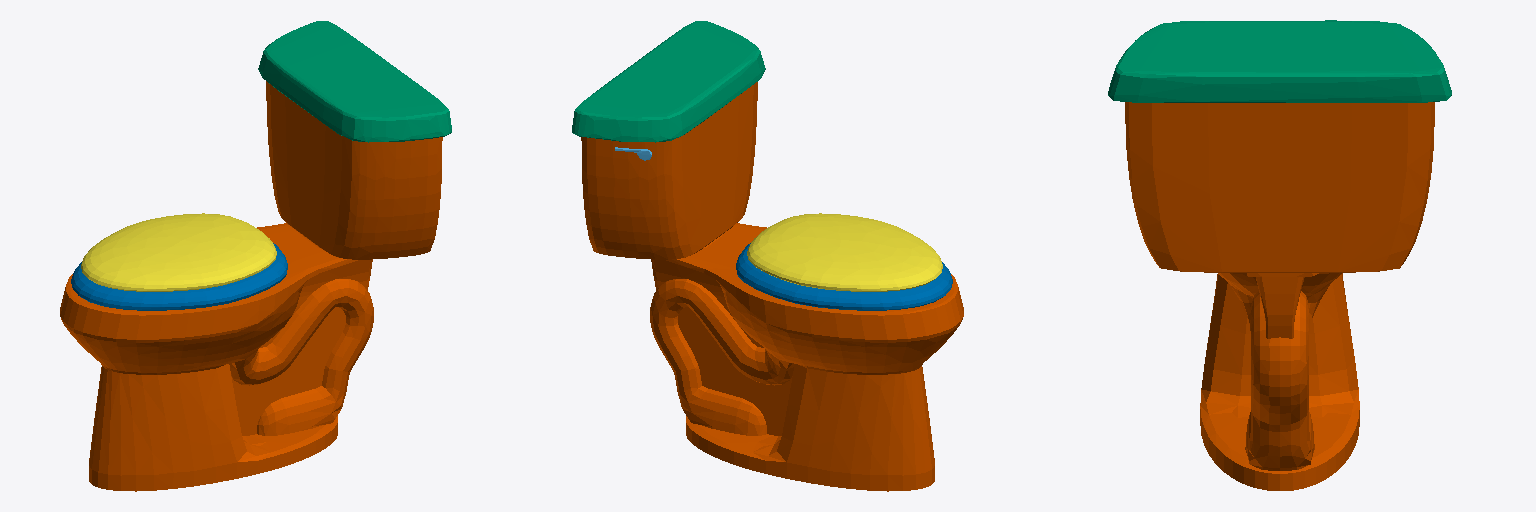
robot.urdf — partnet_690aaf094a1aab6f62199a9cae1daff4:
<robot name="partnet_690aaf094a1aab6f62199a9cae1daff4">
	<link name="base" />
	<link name="link_0">
		<collision>
			<origin xyz="0.386519538470232 -0.5714278321933174 0.2971314556934803" />
			<geometry>
				<mesh filename="new_objs/102648_link_0_0.obj" />
			</geometry>
		</collision>
	<collision>
			<origin xyz="0.386519538470232 -0.5714278321933174 0.2971314556934803" />
			<geometry>
				<mesh filename="new_objs/102648_link_0_1.obj" />
			</geometry>
		</collision>
	<visual name="button-part[&quot;id]">
			<origin xyz="0.386519538470232 -0.5714278321933174 0.2971314556934803" />
			<geometry>
				<mesh filename="textured_objs/original-5.obj" />
			</geometry>
		</visual>
		</link>
	<joint name="joint_0" type="revolute">
		<origin xyz="-0.386519538470232 0.5714278321933174 -0.2971314556934803" />
		<axis xyz="-0.9156270153367615 0.009932349765427154 0.40190610497183427" />
		<child link="link_0" />
		<parent link="link_4" />
		<limit lower="-0.0" upper="0.5235987755982988" />
	</joint>
	<link name="link_1">
		<collision>
			<origin xyz="0 0 0" />
			<geometry>
				<mesh filename="new_objs/102648_link_1_0.obj" />
			</geometry>
		</collision>
	<visual name="lid-part[&quot;id]">
			<origin xyz="0 0 0" />
			<geometry>
				<mesh filename="textured_objs/original-1.obj" />
			</geometry>
		</visual>
		</link>
	<joint name="joint_1" type="prismatic">
		<origin xyz="0 0 0" />
		<axis xyz="0 1 0" />
		<child link="link_1" />
		<parent link="link_4" />
		<limit lower="0" upper="0.03" />
	</joint>
	<link name="link_2">
		<collision>
			<origin xyz="0 -0.0866546278431851 0.0689510427298956" />
			<geometry>
				<mesh filename="new_objs/102648_link_2_0.obj" />
			</geometry>
		</collision>
	<visual name="lid-part[&quot;id]">
			<origin xyz="0 -0.0866546278431851 0.0689510427298956" />
			<geometry>
				<mesh filename="textured_objs/original-6.obj" />
			</geometry>
		</visual>
		</link>
	<joint name="joint_2" type="revolute">
		<origin xyz="0 0.0866546278431851 -0.0689510427298956" />
		<axis xyz="-1 0 0" />
		<child link="link_2" />
		<parent link="link_4" />
		<limit lower="-0.0" upper="1.6057029118347832" />
	</joint>
	<link name="link_3">
		<collision>
			<origin xyz="0 -0.0866546278431851 0.0689510427298956" />
			<geometry>
				<mesh filename="new_objs/102648_link_3_0.obj" />
			</geometry>
		</collision>
	<visual name="seat-part[&quot;id]">
			<origin xyz="0 -0.0866546278431851 0.0689510427298956" />
			<geometry>
				<mesh filename="textured_objs/original-7.obj" />
			</geometry>
		</visual>
		</link>
	<joint name="joint_3" type="revolute">
		<origin xyz="0 0.0866546278431851 -0.0689510427298956" />
		<axis xyz="-1 0 0" />
		<child link="link_3" />
		<parent link="link_4" />
		<limit lower="-0.0" upper="1.6057029118347832" />
	</joint>
	<link name="link_4">
		<collision>
			<origin xyz="0 0 0" />
			<geometry>
				<mesh filename="new_objs/102648_link_4_18.obj" />
			</geometry>
		</collision>
		<collision>
			<origin xyz="0 0 0" />
			<geometry>
				<mesh filename="new_objs/102648_link_4_19.obj" />
			</geometry>
		</collision>
		<collision>
			<origin xyz="0 0 0" />
			<geometry>
				<mesh filename="new_objs/102648_link_4_4.obj" />
			</geometry>
		</collision>
		<collision>
			<origin xyz="0 0 0" />
			<geometry>
				<mesh filename="new_objs/102648_link_4_10.obj" />
			</geometry>
		</collision>
		<collision>
			<origin xyz="0 0 0" />
			<geometry>
				<mesh filename="new_objs/102648_link_4_9.obj" />
			</geometry>
		</collision>
		<collision>
			<origin xyz="0 0 0" />
			<geometry>
				<mesh filename="new_objs/102648_link_4_17.obj" />
			</geometry>
		</collision>
		<collision>
			<origin xyz="0 0 0" />
			<geometry>
				<mesh filename="new_objs/102648_link_4_5.obj" />
			</geometry>
		</collision>
		<collision>
			<origin xyz="0 0 0" />
			<geometry>
				<mesh filename="new_objs/102648_link_4_12.obj" />
			</geometry>
		</collision>
		<collision>
			<origin xyz="0 0 0" />
			<geometry>
				<mesh filename="new_objs/102648_link_4_2.obj" />
			</geometry>
		</collision>
		<collision>
			<origin xyz="0 0 0" />
			<geometry>
				<mesh filename="new_objs/102648_link_4_14.obj" />
			</geometry>
		</collision>
		<collision>
			<origin xyz="0 0 0" />
			<geometry>
				<mesh filename="new_objs/102648_link_4_0.obj" />
			</geometry>
		</collision>
		<collision>
			<origin xyz="0 0 0" />
			<geometry>
				<mesh filename="new_objs/102648_link_4_15.obj" />
			</geometry>
		</collision>
		<collision>
			<origin xyz="0 0 0" />
			<geometry>
				<mesh filename="new_objs/102648_link_4_6.obj" />
			</geometry>
		</collision>
		<collision>
			<origin xyz="0 0 0" />
			<geometry>
				<mesh filename="new_objs/102648_link_4_13.obj" />
			</geometry>
		</collision>
		<collision>
			<origin xyz="0 0 0" />
			<geometry>
				<mesh filename="new_objs/102648_link_4_11.obj" />
			</geometry>
		</collision>
		<collision>
			<origin xyz="0 0 0" />
			<geometry>
				<mesh filename="new_objs/102648_link_4_7.obj" />
			</geometry>
		</collision>
		<collision>
			<origin xyz="0 0 0" />
			<geometry>
				<mesh filename="new_objs/102648_link_4_3.obj" />
			</geometry>
		</collision>
		<collision>
			<origin xyz="0 0 0" />
			<geometry>
				<mesh filename="new_objs/102648_link_4_8.obj" />
			</geometry>
		</collision>
		<collision>
			<origin xyz="0 0 0" />
			<geometry>
				<mesh filename="new_objs/102648_link_4_1.obj" />
			</geometry>
		</collision>
		<collision>
			<origin xyz="0 0 0" />
			<geometry>
				<mesh filename="new_objs/102648_link_4_20.obj" />
			</geometry>
		</collision>
		<collision>
			<origin xyz="0 0 0" />
			<geometry>
				<mesh filename="new_objs/102648_link_4_16.obj" />
			</geometry>
		</collision>
		<visual name="base_body-part[&quot;id]">
			<origin xyz="0 0 0" />
			<geometry>
				<mesh filename="textured_objs/original-4.obj" />
			</geometry>
		</visual>
		<visual name="base_body-part[&quot;id]">
			<origin xyz="0 0 0" />
			<geometry>
				<mesh filename="textured_objs/original-3.obj" />
			</geometry>
		</visual>
		<visual name="base_body-part[&quot;id]">
			<origin xyz="0 0 0" />
			<geometry>
				<mesh filename="textured_objs/original-2.obj" />
			</geometry>
		</visual>
		</link>
	<joint name="joint_4" type="fixed">
		<origin rpy="1.570796326794897 0 -1.570796326794897" xyz="0 0 0" />
		<child link="link_4" />
		<parent link="base" />
	</joint>
</robot>

--- What the picture shows (computed from the rendered views, not written in the file) ---
The picture shows the robot from 3 angles, left to right: view 1: azimuth 30°, elevation 25°; view 2: azimuth 150°, elevation 25°; view 3: azimuth 270°, elevation 25°; orthographic projection.
Robot: partnet_690aaf094a1aab6f62199a9cae1daff4 — 6 links, 5 joints (3 revolute, 1 prismatic, 1 fixed); root link base; default pose: every joint at zero.
Visible links, largest first — view 1: link_4, link_1, link_2, link_3; view 2: link_4, link_1, link_2, link_3; view 3: link_4, link_1.
Link boxes in pixels (box(x1,y1,x2,y2)): link_4: box(60, 81, 442, 491); link_1: box(258, 21, 451, 142); link_2: box(81, 213, 276, 291); link_3: box(71, 243, 287, 310); link_4: box(581, 82, 963, 491); link_1: box(572, 21, 765, 142); link_2: box(747, 213, 942, 291); link_3: box(736, 243, 952, 310); link_4: box(1125, 102, 1434, 490); link_1: box(1108, 20, 1451, 102).
Bounding box of the posed robot: 1.37 × 0.9664 × 1.42 m (x, y, z).
7 mesh visuals loaded from 7 distinct referenced files (7 OBJ).
